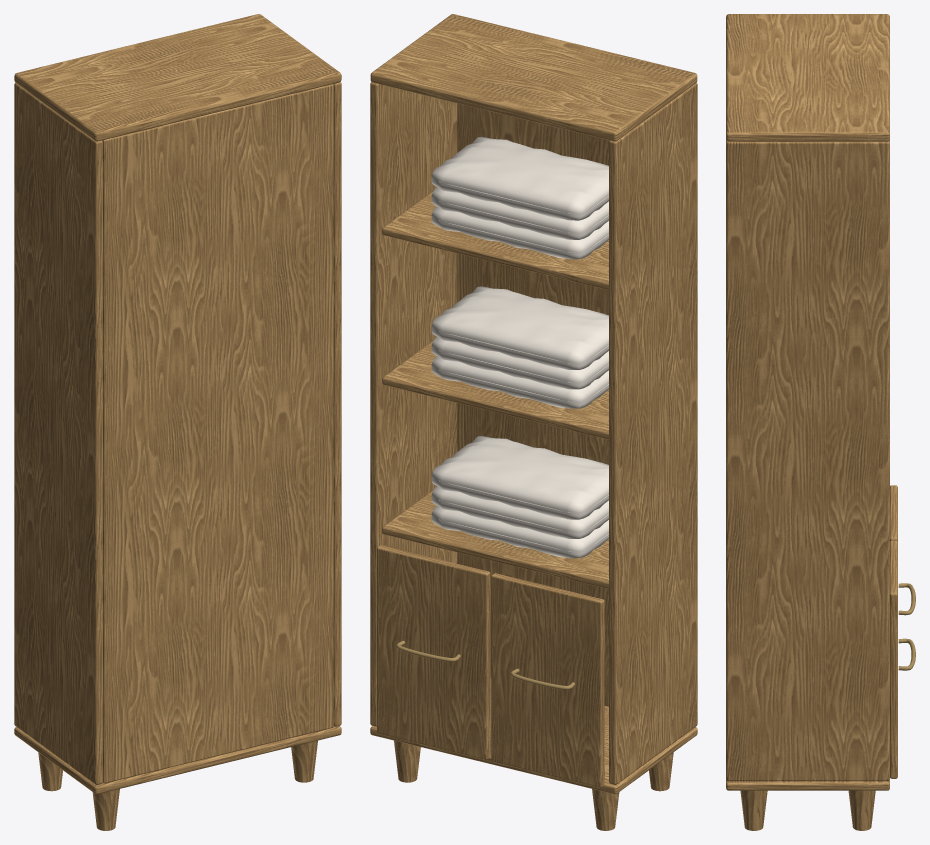
The model's file is residential-linen-tower.glb.
3 renders of one model, left to right at view 1: azimuth 30°, elevation 25°; view 2: azimuth 150°, elevation 25°; view 3: azimuth 270°, elevation 25°, orthographic.
Visible parts, largest first — view 1: oak_surfaces; view 2: oak_surfaces, ivory_surfaces, bronze_surfaces; view 3: oak_surfaces, bronze_surfaces.
Part boxes in pixels (x1,y1,x2,y2): oak_surfaces: (14,14,341,830); oak_surfaces: (370,14,697,830); ivory_surfaces: (431,136,608,558); bronze_surfaces: (396,640,575,689); oak_surfaces: (726,14,897,830); bronze_surfaces: (898,583,915,670).
Size of the model in its own units: 0.7601 by 2.09 by 0.5093.
3 materials, 1 textured.
